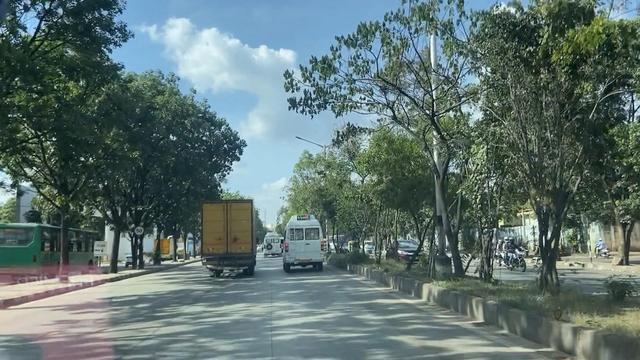HMV: (204, 201, 256, 275), (279, 212, 320, 273)
